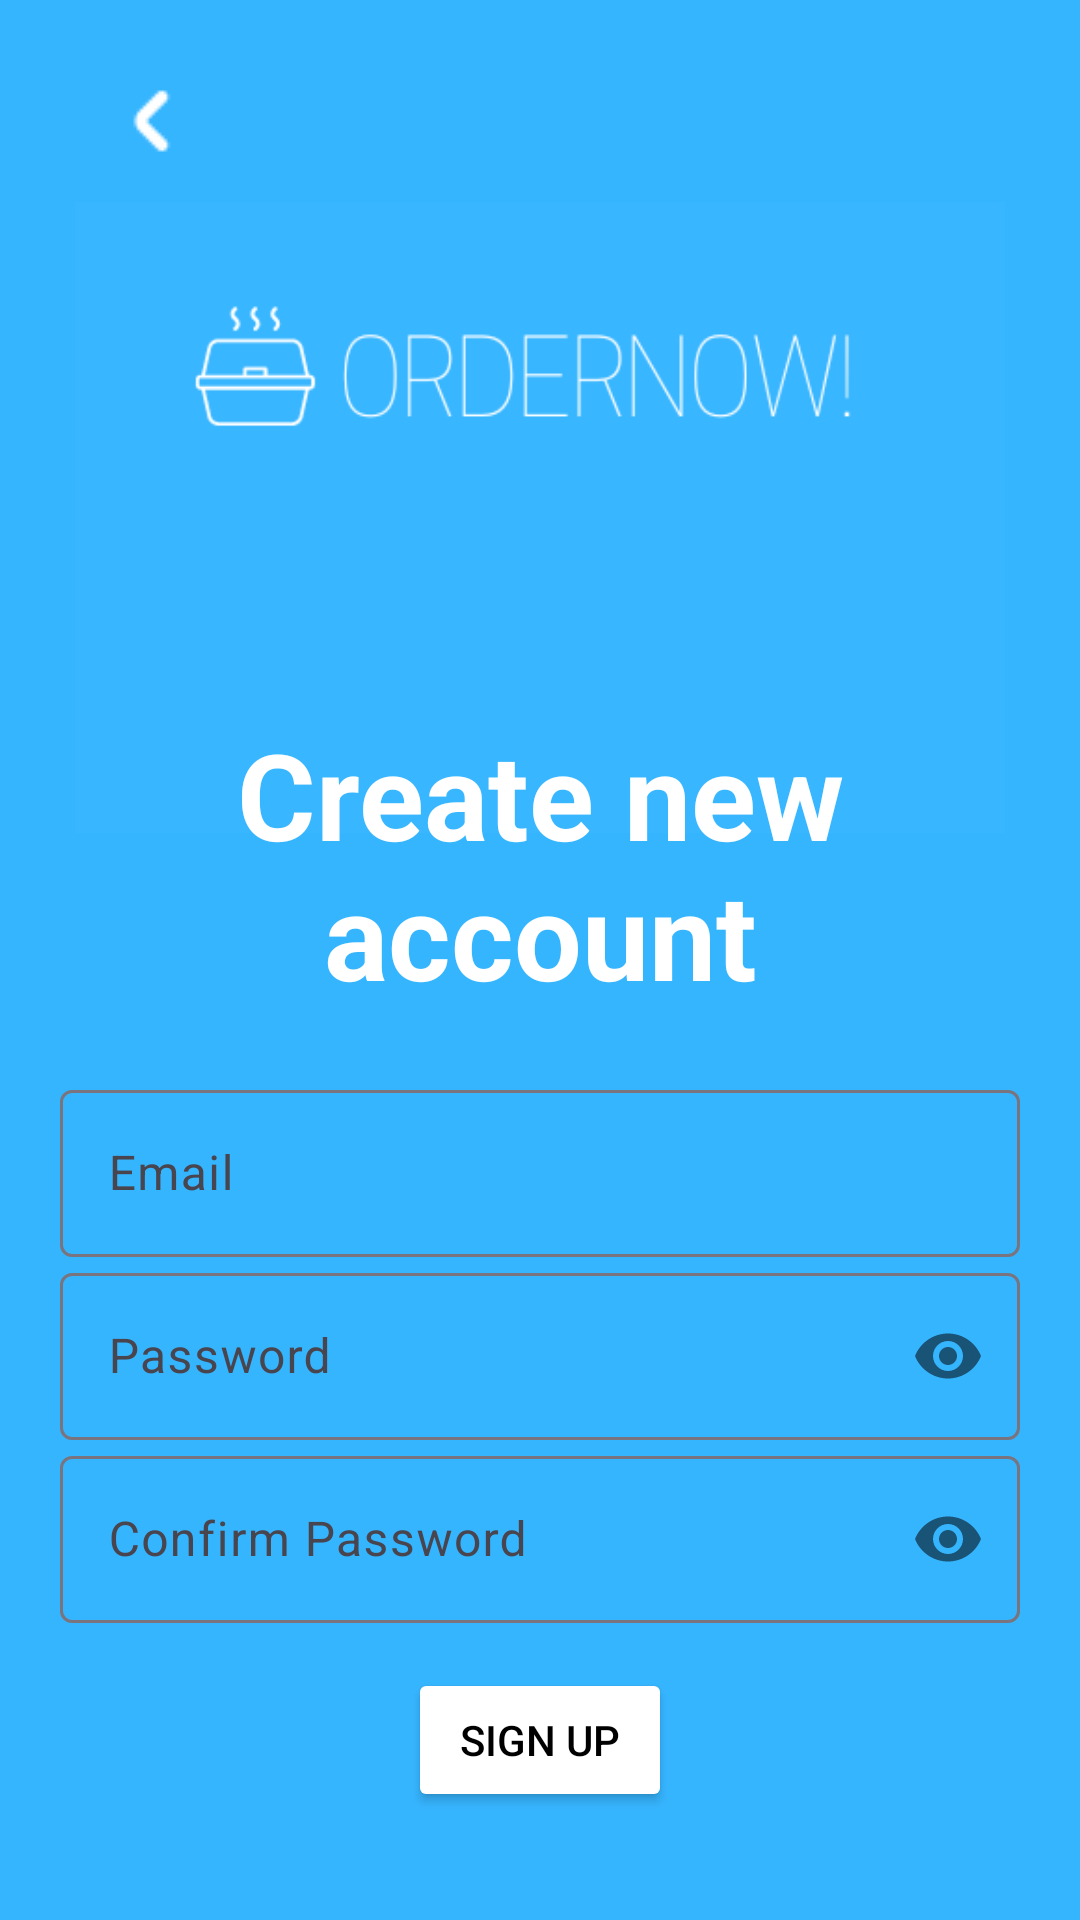

Icons on this 1080 × 1920 Android screen, each with its box as (x1, y1, x2, y2):
back arrow: (133, 90, 170, 152)
